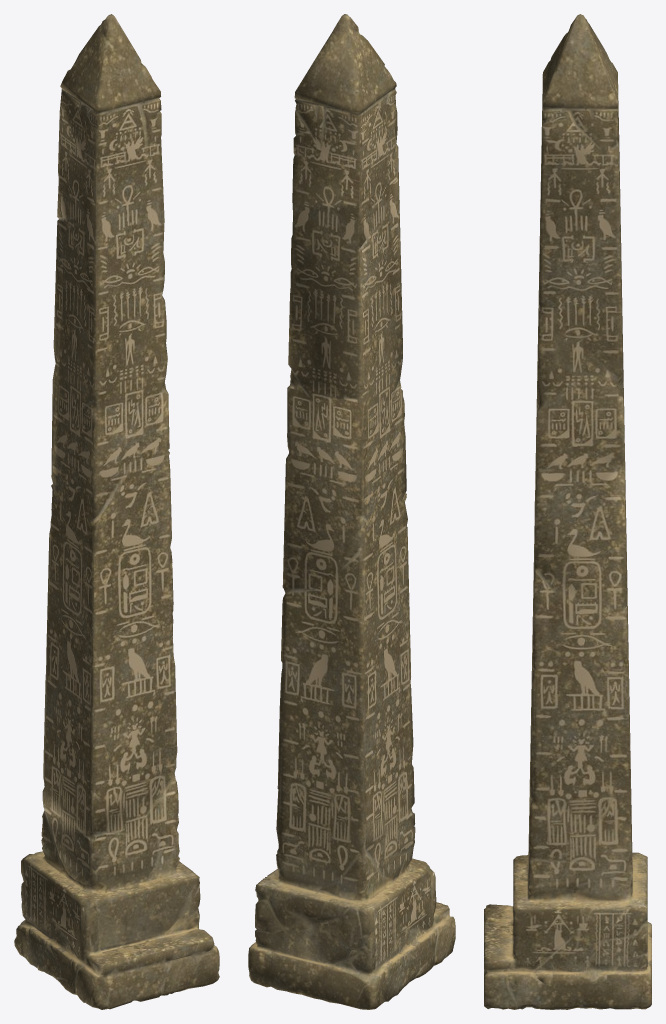
The model's file is obelisco.glb.
The picture shows the model from 3 angles, left to right: view 1: azimuth 30°, elevation 25°; view 2: azimuth 150°, elevation 25°; view 3: azimuth 270°, elevation 25°; orthographic projection.
Visible parts, largest first — view 1: T1_Obelisk; view 2: T1_Obelisk; view 3: T1_Obelisk.
Boxes of the visible parts, x1=… form: T1_Obelisk: x1=14, y1=14, x2=219, y2=1009; T1_Obelisk: x1=248, y1=14, x2=455, y2=1009; T1_Obelisk: x1=484, y1=14, x2=651, y2=1009.
Size of the model in its own units: 0.2744 by 2 by 0.3156.
Materials: 1 (1 with a texture image).
